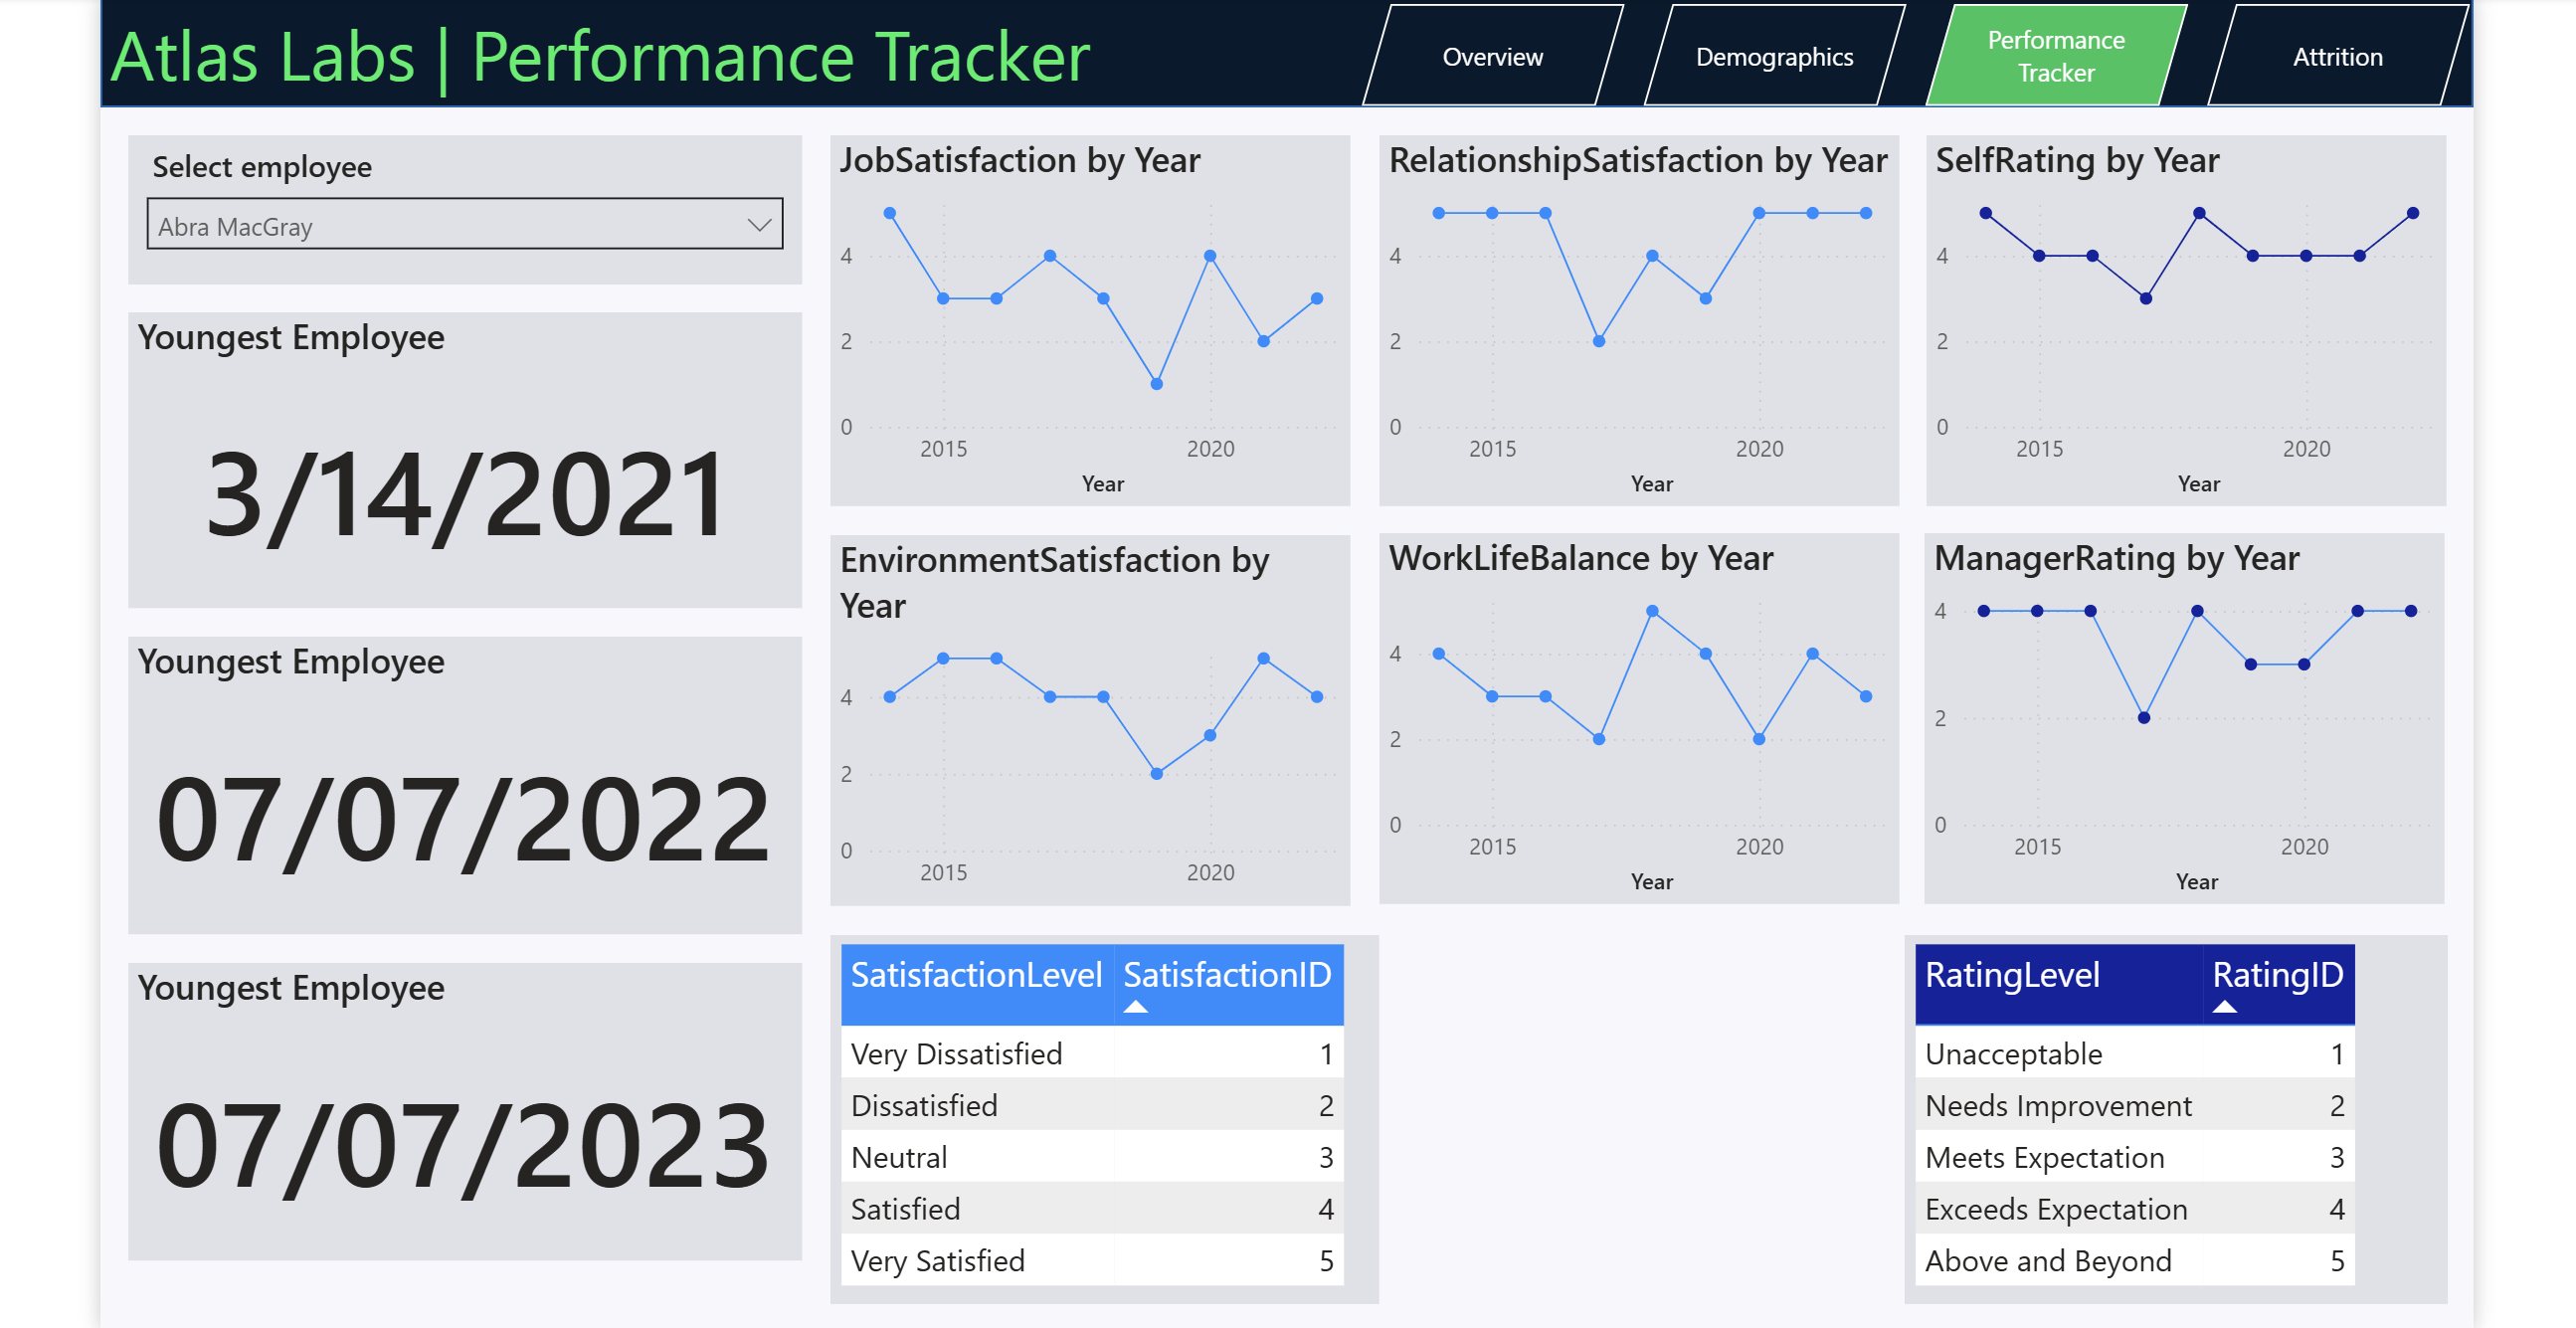

The page's visual inventory and layout, read from the dashboard file:
{"tool":"powerbi","page":{"name":"Performance Tracker","canvas":[1280,720],"ordinal":2},"visuals":[{"type":"card","title":"Last Review Date","fields":{"Values":["_Measures.LastReviewDate"]},"box":[15.3,345.5,363.3,160.6],"z":0},{"type":"card","title":"Next Review Date","fields":{"Values":["_Measures.NextReviewDate"]},"box":[15.3,521.4,363.3,160.6],"z":1000},{"type":"card","title":"Earliest Hire Date","fields":{"Values":["Min(DimEmployee.HireDate)"]},"box":[15.3,170.8,363.3,159.4],"z":2000},{"type":"slicer","fields":{"Values":["DimEmployee.FullName"]},"box":[15.3,75.2,363.3,80.3],"z":3000},{"type":"shape","box":[0,0,1280,60],"z":4000},{"type":"textbox","box":[0,0,1281.3,59.9],"z":5000},{"type":"lineChart","title":"JobSatisfaction","fields":{"Y":["_Measures.JobSatisfaction"],"Category":["DimDate.Date.Variation.Date Hierarchy.Year"]},"box":[393.9,75.2,280.5,200.2],"z":6000},{"type":"lineChart","title":"Relationship Satisfaction","fields":{"Category":["DimDate.Date.Variation.Date Hierarchy.Year"],"Y":["_Measures.RelationshipSatisfaction"]},"box":[689.7,75.2,280.5,200.2],"z":7000},{"type":"lineChart","title":"Self Rating","fields":{"Category":["DimDate.Date.Variation.Date Hierarchy.Year"],"Y":["_Measures.SelfRating"]},"box":[985.5,75.2,280.5,200.2],"z":8000},{"type":"lineChart","title":"Manager Rating","fields":{"Category":["DimDate.Date.Variation.Date Hierarchy.Year"],"Y":["_Measures.ManagerRating"]},"box":[984.2,289.4,280.5,200.2],"z":9000},{"type":"lineChart","title":"Work Life Balance","fields":{"Category":["DimDate.Date.Variation.Date Hierarchy.Year"],"Y":["_Measures.WorkLifeBalance"]},"box":[689.7,289.4,280.5,200.2],"z":10000},{"type":"lineChart","title":"Environment Satisfaction","fields":{"Category":["DimDate.Date.Variation.Date Hierarchy.Year"],"Y":["_Measures.EnvironmentSatisfaction"]},"box":[393.9,290.7,280.5,200.2],"z":11000},{"type":"tableEx","fields":{"Values":["DimSatisfiedLevel.SatisfactionLevel","DimSatisfiedLevel.SatisfactionID"]},"box":[394,506.4,286.1,198.1],"z":12000},{"type":"tableEx","fields":{"Values":["DimRatingLevel.RatingLevel","DimRatingLevel.RatingID"]},"box":[980.6,506.4,286.1,198.1],"z":13000},{"type":"pageNavigator","box":[680.1,4.5,599.9,55.7],"z":14000}]}

Visuals, with their boxes on the page's 1280x720 design canvas (x1, y1, x2, y2). These are canvas units, not pixel positions in the 2576x1328 screenshot, which may show the page scaled, cropped or inside an application window:
"Last Review Date" card: region(15, 346, 379, 506)
"Next Review Date" card: region(15, 521, 379, 682)
"Earliest Hire Date" card: region(15, 171, 379, 330)
slicer - DimEmployee.FullName: region(15, 75, 379, 156)
shape: region(0, 0, 1280, 60)
textbox: region(0, 0, 1281, 60)
"JobSatisfaction" lineChart: region(394, 75, 674, 275)
"Relationship Satisfaction" lineChart: region(690, 75, 970, 275)
"Self Rating" lineChart: region(986, 75, 1266, 275)
"Manager Rating" lineChart: region(984, 289, 1265, 490)
"Work Life Balance" lineChart: region(690, 289, 970, 490)
"Environment Satisfaction" lineChart: region(394, 291, 674, 491)
tableEx - DimSatisfiedLevel.SatisfactionLevel x DimSatisfiedLevel.SatisfactionID: region(394, 506, 680, 704)
tableEx - DimRatingLevel.RatingLevel x DimRatingLevel.RatingID: region(981, 506, 1267, 704)
pageNavigator: region(680, 4, 1280, 60)
